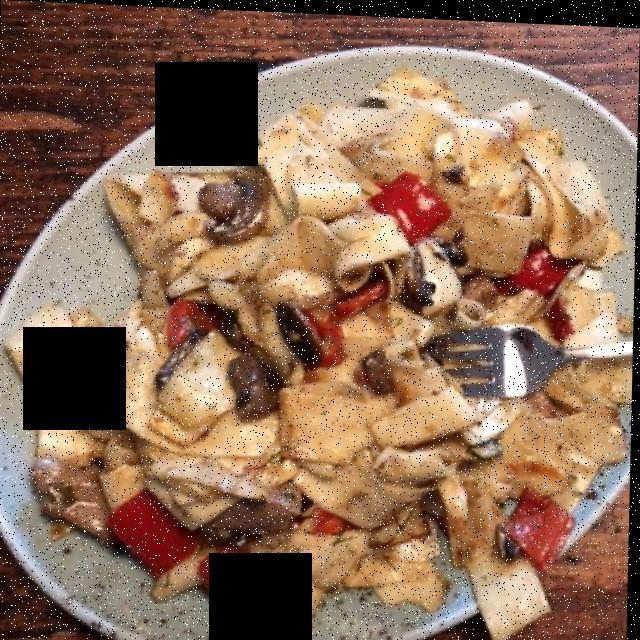bell-pepper: (111, 170, 564, 600)
mushroom: (195, 153, 277, 429)
pasta: (14, 75, 625, 625)
